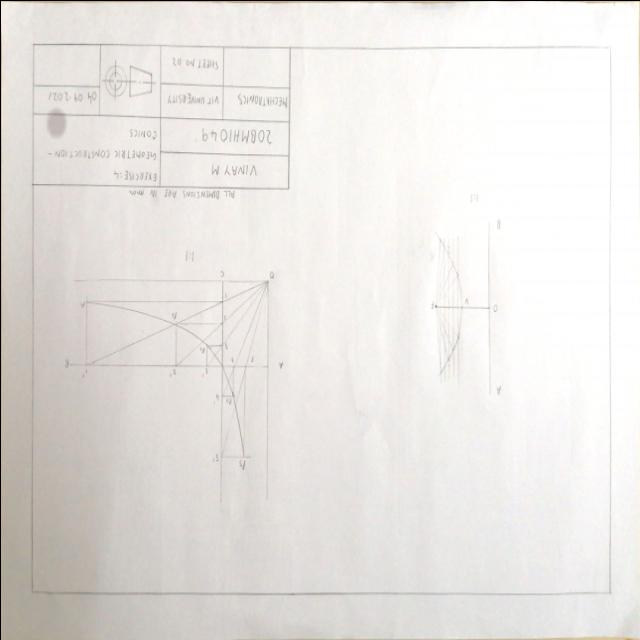Drawings: (47, 230, 297, 516), (424, 192, 513, 404)
